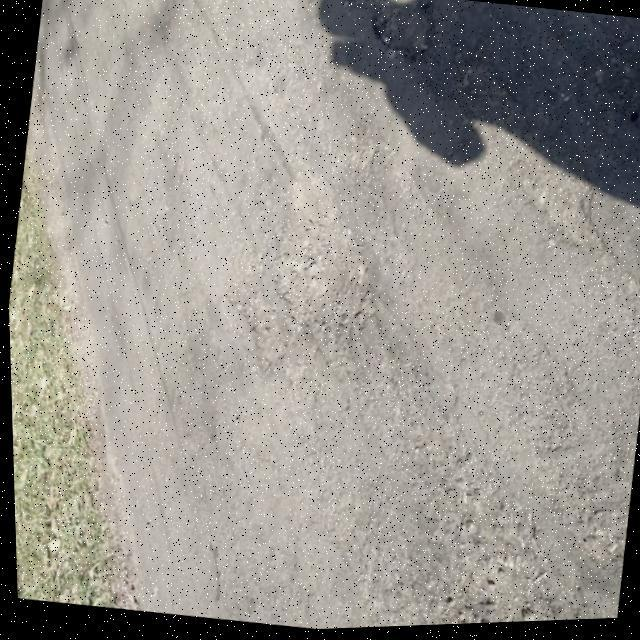pothole: (248, 166, 396, 386)
